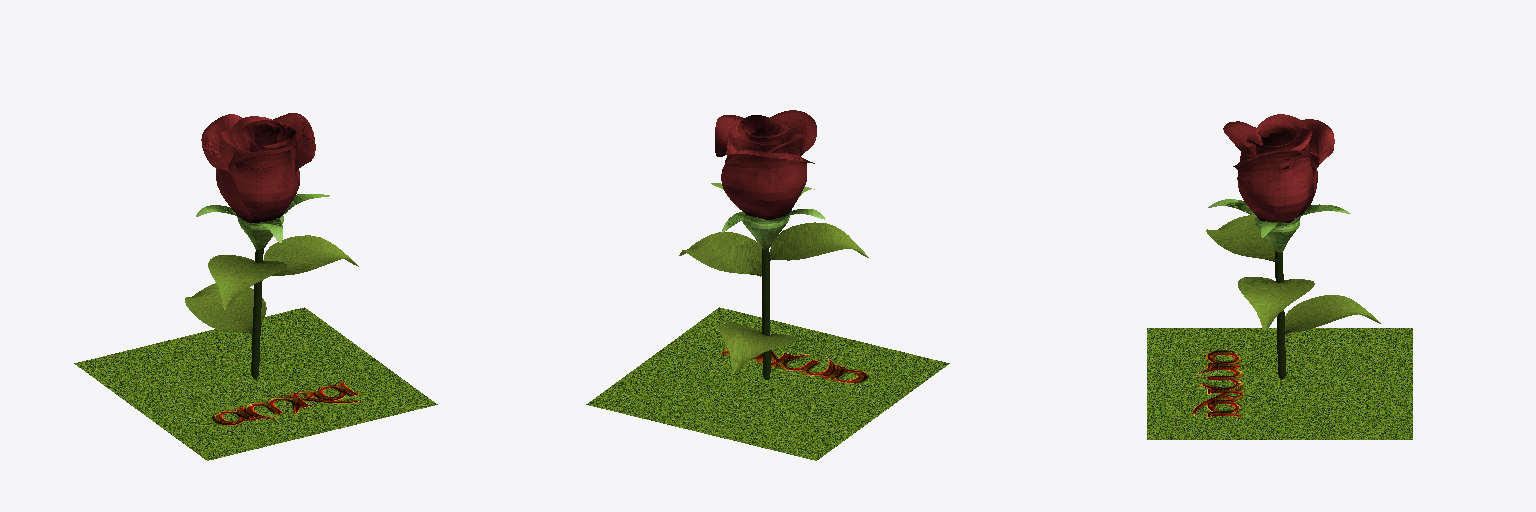
The picture shows the model from 3 angles: view 1: azimuth 30°, elevation 25°; view 2: azimuth 150°, elevation 25°; view 3: azimuth 270°, elevation 25°; orthographic projection.
Parts seen in each view (by area): view 1: Plane, Rose_flower.001; view 2: Plane, Rose_flower.001; view 3: Plane, Rose_flower.001.
Part boxes in pixels (x1,y1,x2,y2): Plane: (74, 307, 437, 460); Rose_flower.001: (185, 113, 358, 378); Plane: (586, 307, 949, 460); Rose_flower.001: (679, 110, 868, 379); Plane: (1147, 328, 1412, 439); Rose_flower.001: (1206, 114, 1380, 379).
Size of the model in its own units: 26.89 by 28.54 by 26.89.
Materials: 4 (4 with a texture image).